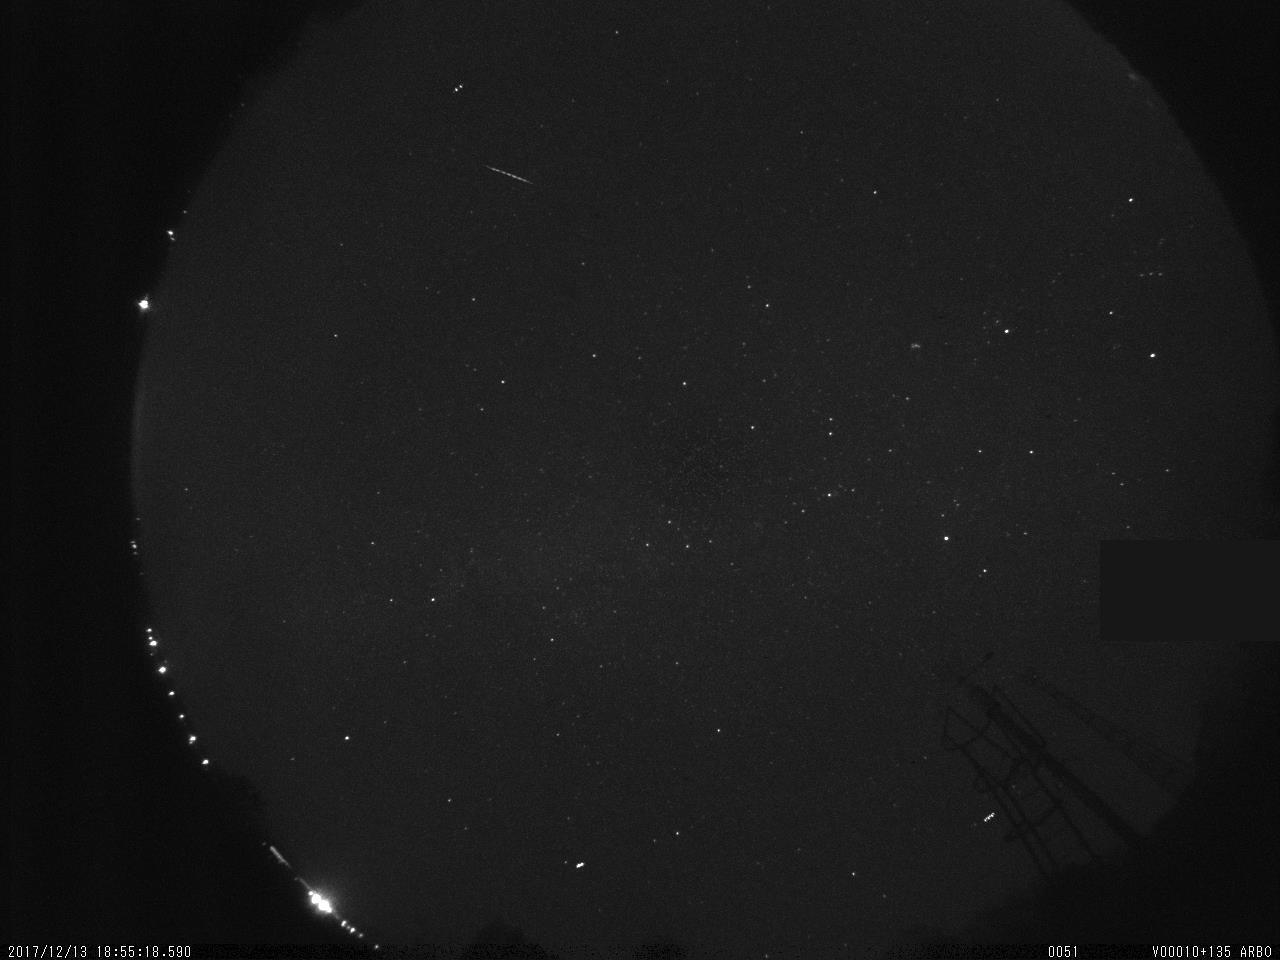Meteor: (484, 162, 535, 185)
